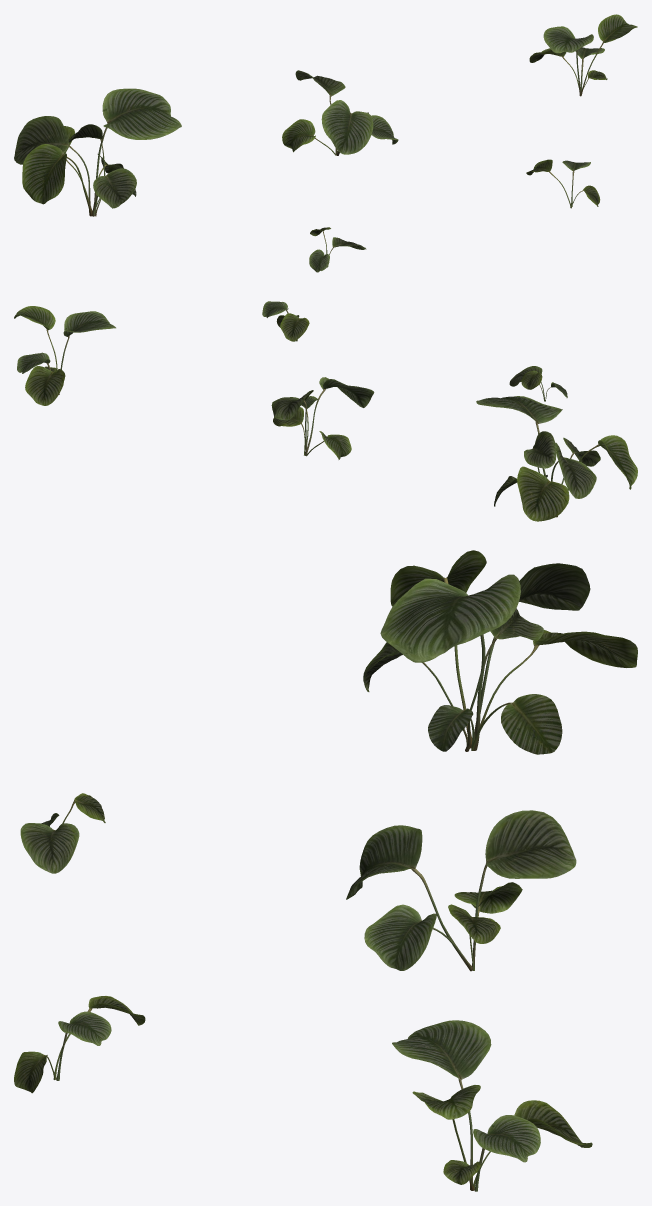
Rendered from calathea_orbifolia_01.glb.
The picture shows the model from 3 angles, top to bottom: view 1: azimuth 30°, elevation 25°; view 2: azimuth 150°, elevation 25°; view 3: azimuth 270°, elevation 25°; orthographic projection. The views are drawn at different scales.
Parts seen in each view (by area): view 1: calathea_orbifolia_01_a, calathea_orbifolia_01_b, calathea_orbifolia_01_c, calathea_orbifolia_01_e, calathea_orbifolia_01_d; view 2: calathea_orbifolia_01_a, calathea_orbifolia_01_c, calathea_orbifolia_01_b, calathea_orbifolia_01_e, calathea_orbifolia_01_d; view 3: calathea_orbifolia_01_a, calathea_orbifolia_01_b, calathea_orbifolia_01_c, calathea_orbifolia_01_e, calathea_orbifolia_01_d.
Boxes of the visible parts, x1,y1,x2,y2 form: calathea_orbifolia_01_a: (14, 88, 181, 216); calathea_orbifolia_01_b: (282, 70, 398, 155); calathea_orbifolia_01_c: (529, 14, 637, 96); calathea_orbifolia_01_e: (526, 159, 600, 208); calathea_orbifolia_01_d: (309, 227, 366, 272); calathea_orbifolia_01_a: (476, 396, 637, 521); calathea_orbifolia_01_c: (14, 306, 115, 405); calathea_orbifolia_01_b: (271, 377, 374, 459); calathea_orbifolia_01_e: (262, 301, 309, 341); calathea_orbifolia_01_d: (509, 366, 567, 401); calathea_orbifolia_01_a: (363, 550, 637, 754); calathea_orbifolia_01_b: (346, 810, 576, 971); calathea_orbifolia_01_c: (392, 1020, 592, 1191); calathea_orbifolia_01_e: (14, 996, 145, 1093); calathea_orbifolia_01_d: (20, 793, 105, 873).
Size of the model in its own units: 2.49 by 0.4239 by 1.19.
1 material, 1 textured.
